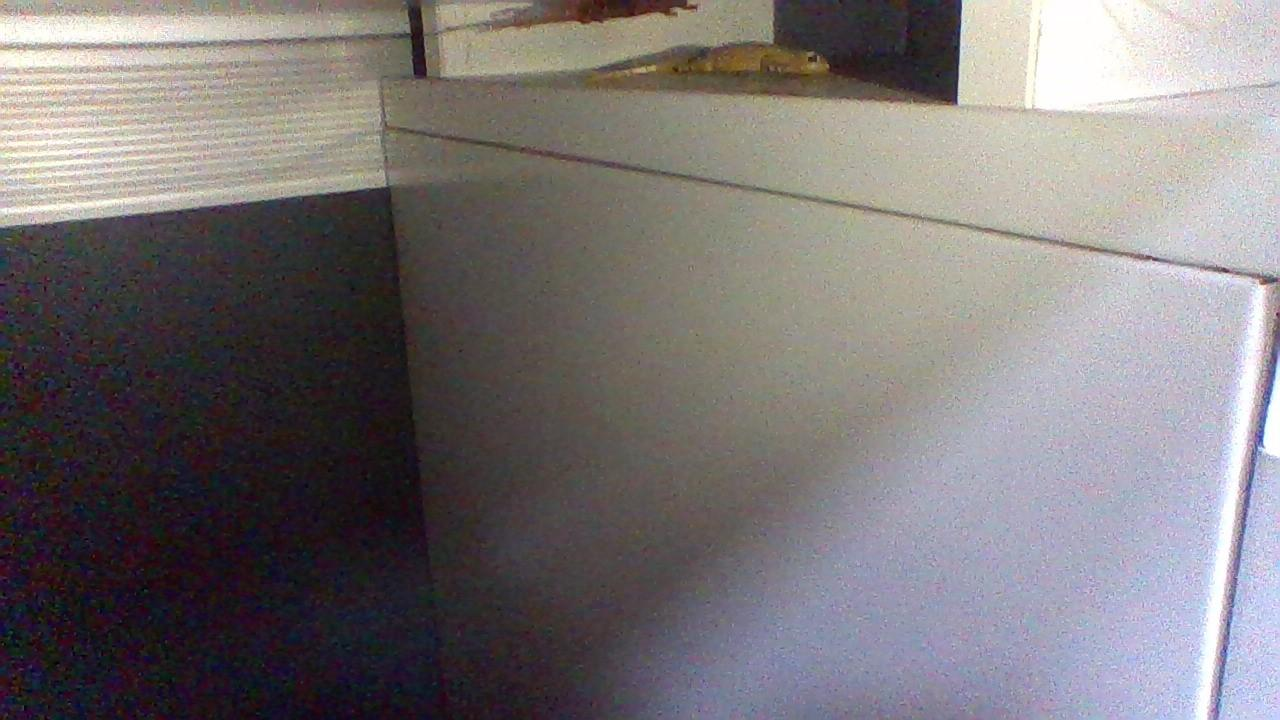cockroach: (390, 0, 713, 39)
lizard: (564, 39, 863, 113)
